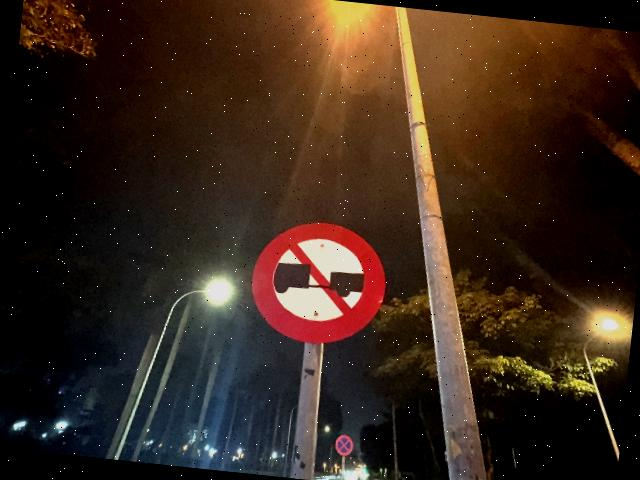cam-xe-somi-romooc: (245, 215, 392, 351)
